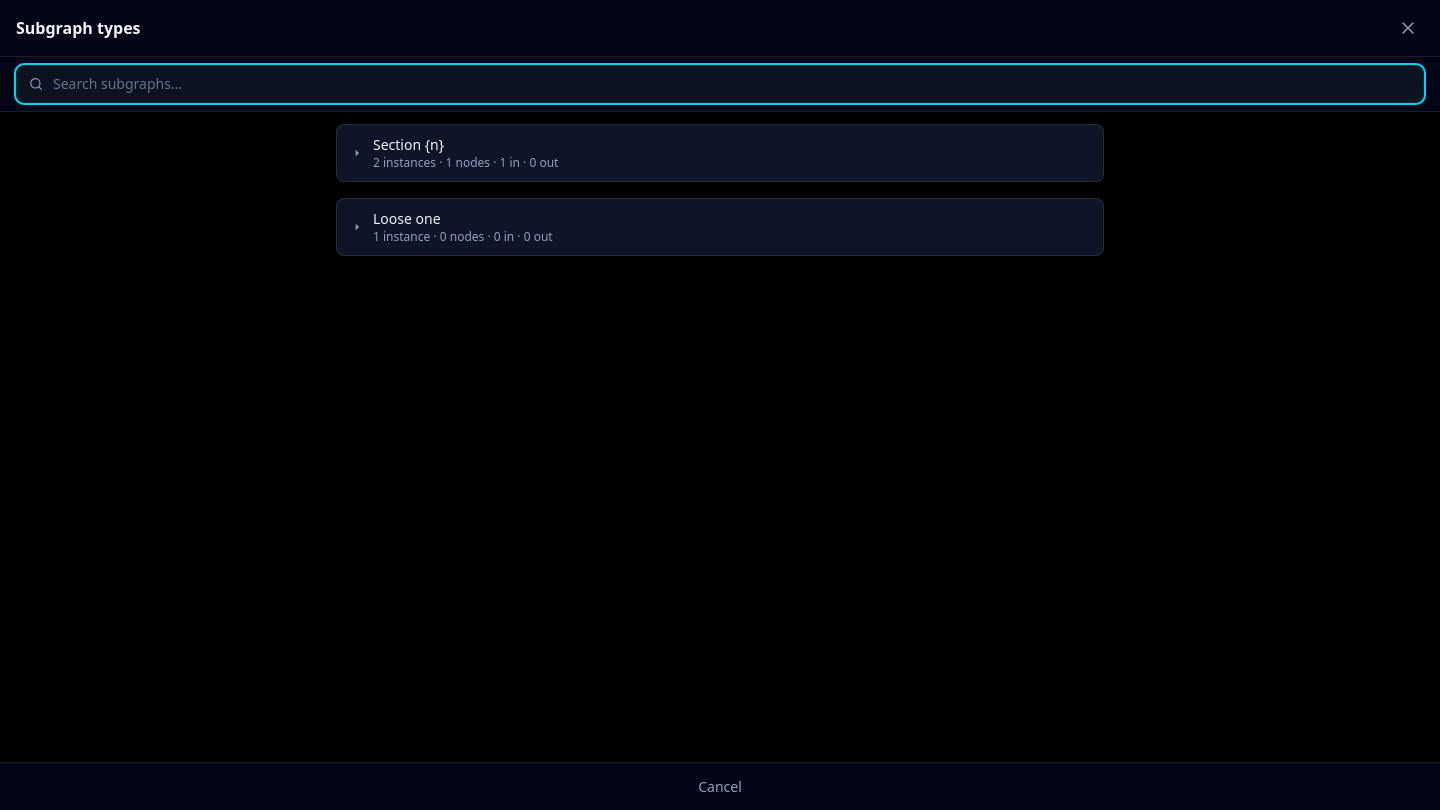
Test: SubgraphTypesModal › expands a row to list the instances it is used by
The width and height of the screenshot is (1440, 810).
Click the button "Section {n} 2 instances · 1 nodes · 1 in · 0 out": (409, 144) [337, 125, 1103, 181]
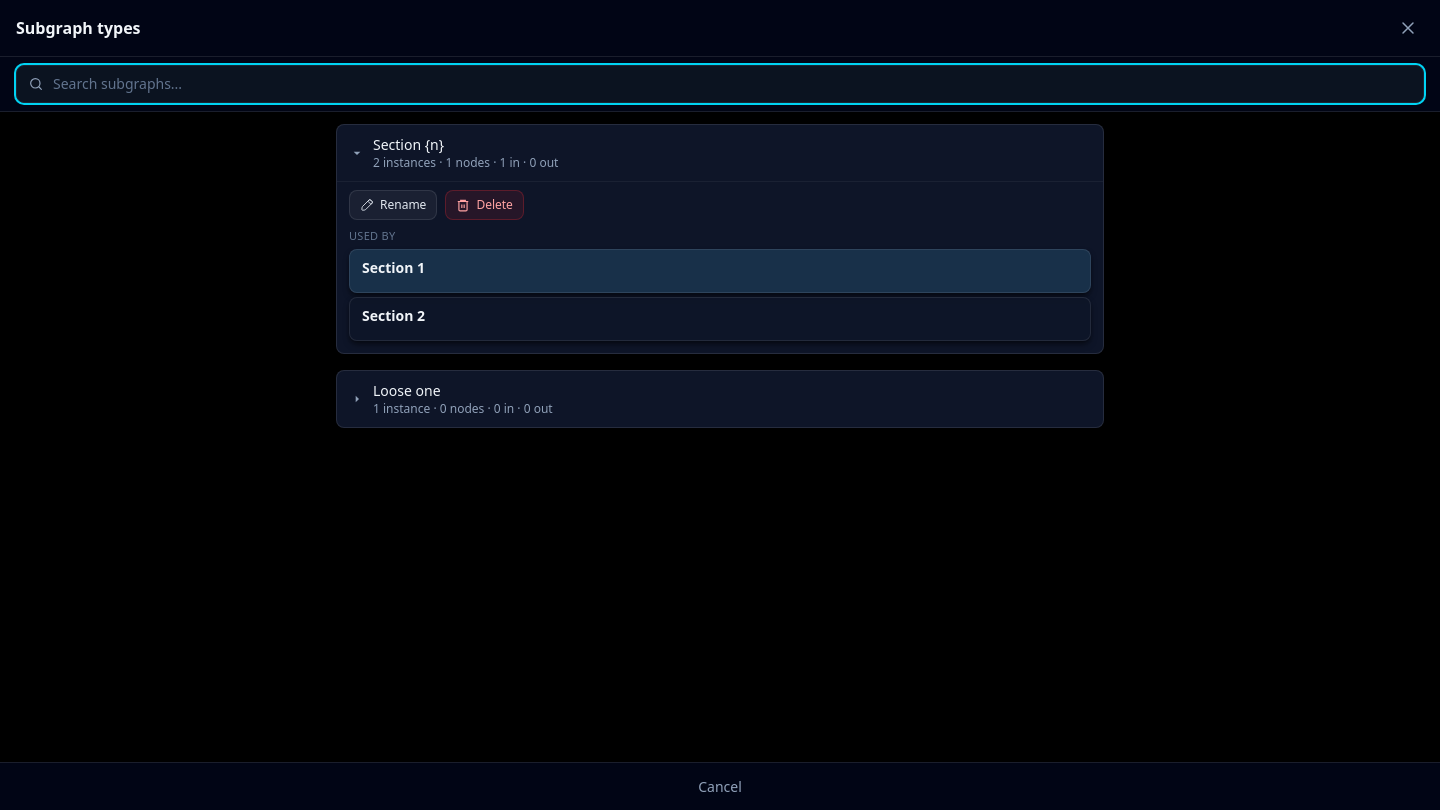
Result: the text "Used by" is shown at [349, 228, 395, 243]
Result: the text "Section 1" is shown at [362, 258, 1078, 277]
Result: the text "Section 2" is shown at [362, 306, 1078, 325]
